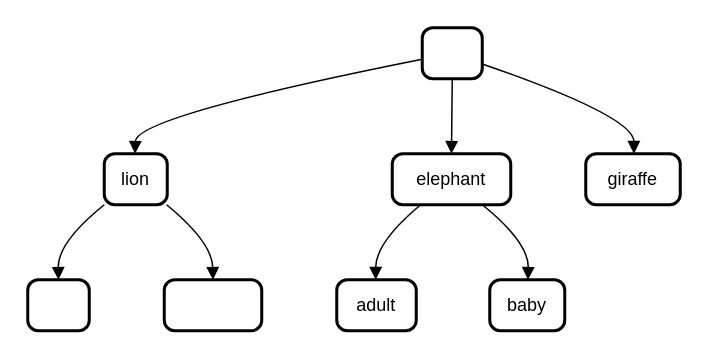
This 707x357 diagram has some shape labels left out. The shapes that lost their labels are listed below. From the top down, each one's centre as x and y in pixels, then its label:
At point (451, 53): "zoo".
At point (58, 305): "cub".
At point (212, 305): "female".
